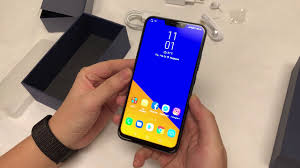asus: (113, 15, 208, 154)
